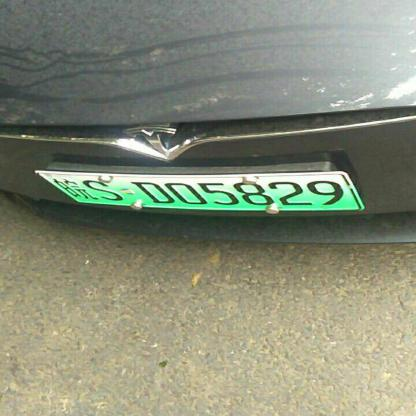lp: (77, 172, 363, 208)
